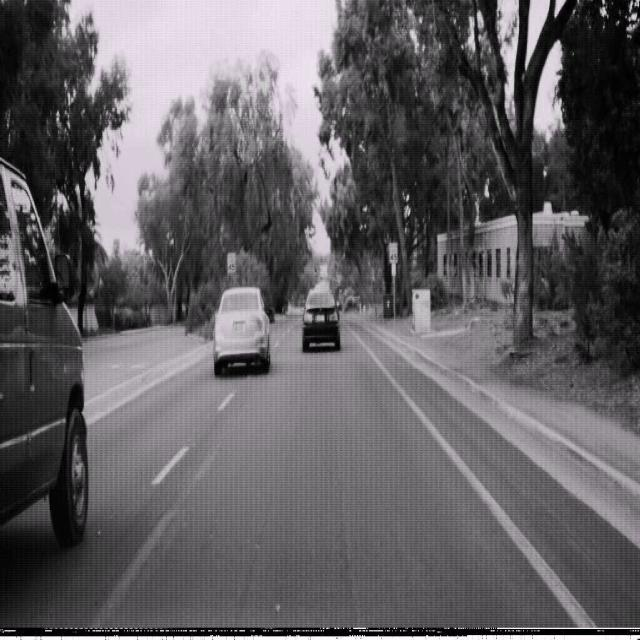speedLimit45: (388, 240, 398, 264), (226, 251, 236, 275)
